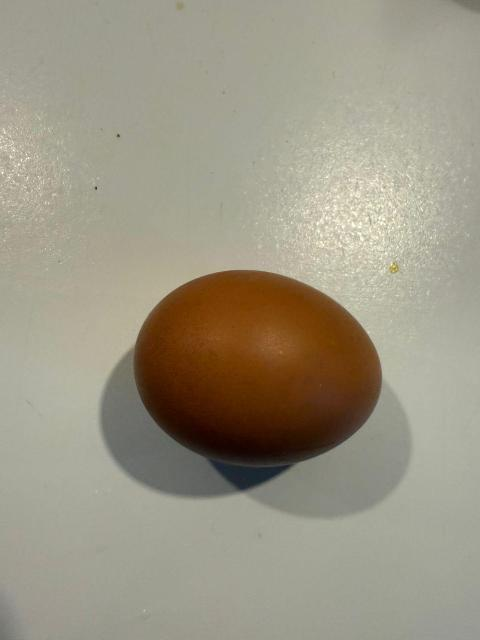Organik: (139, 271, 388, 464)
